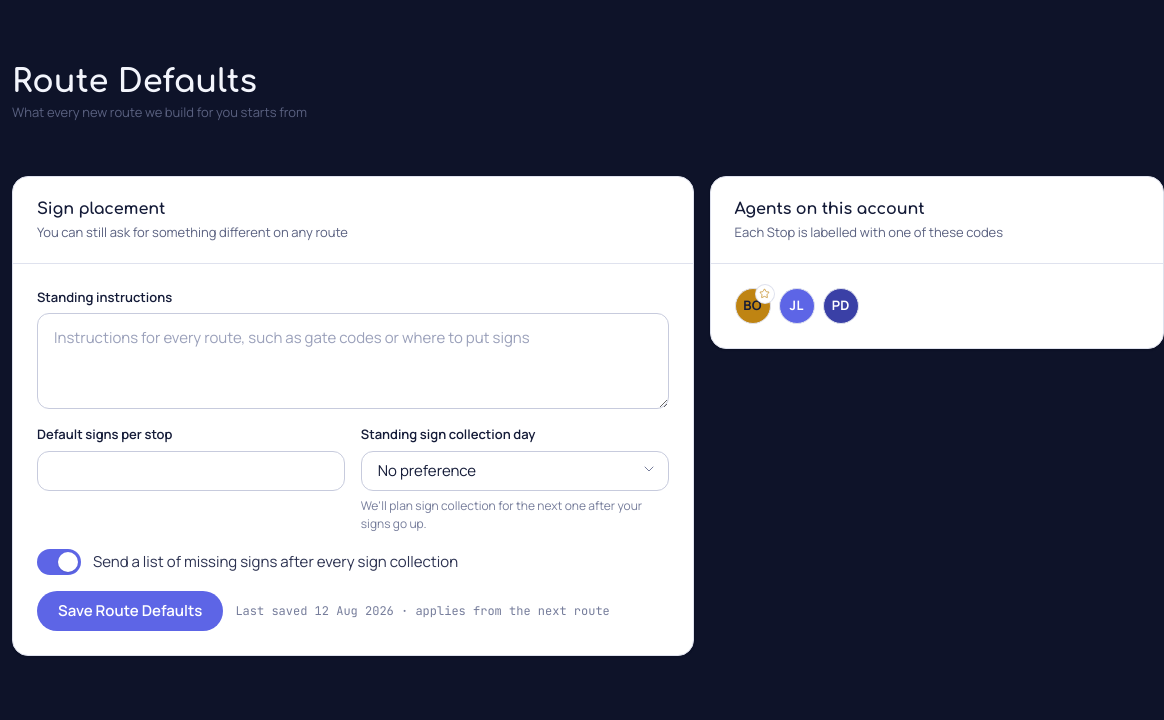
it: Customer Route Defaults page › validates non-negative default signs before save
The image size is (1164, 720).
Type "-1" into the number field labelled "Default signs per stop".
click(191, 471); type("-1")  # box [37, 451, 345, 491]
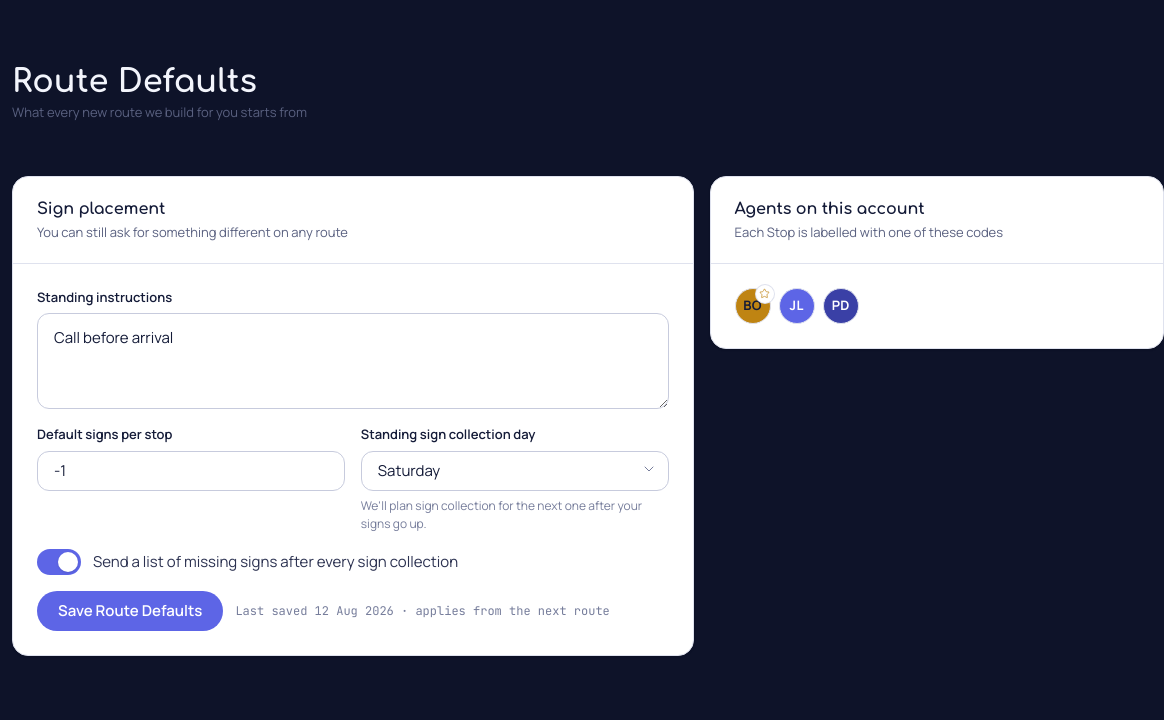
Click the button "Save Route Defaults".
click(130, 611)  # box [37, 591, 223, 631]
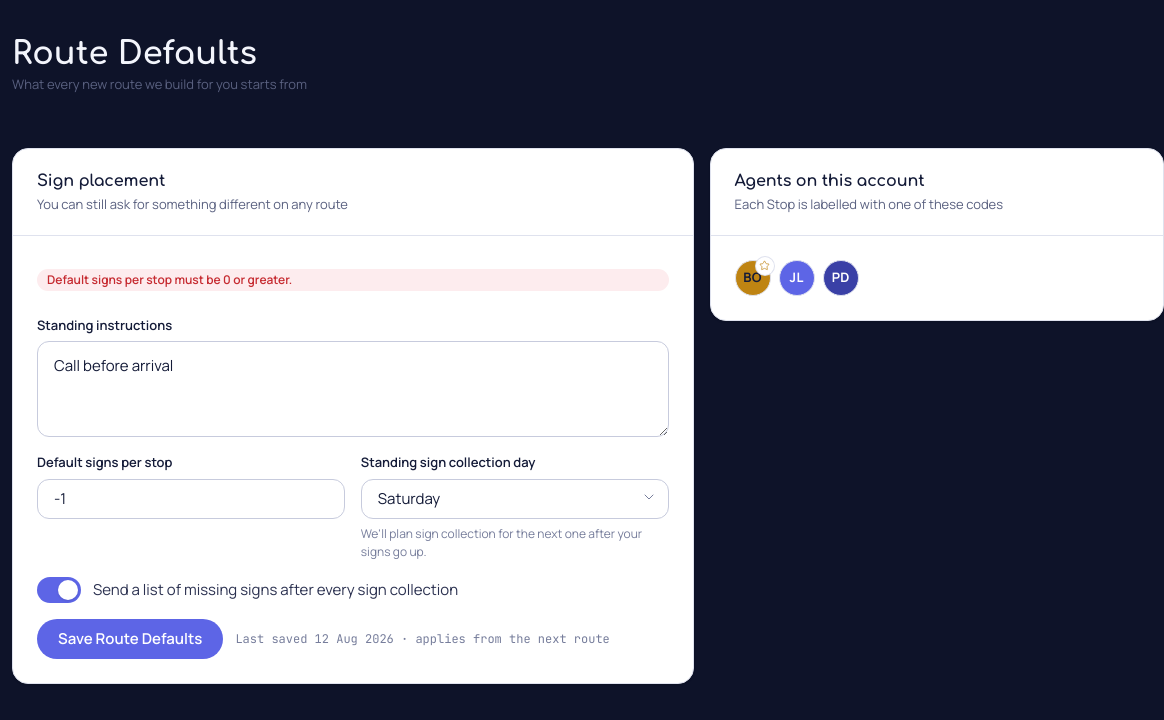
Check: the text "Default signs per stop must be 0 or greater." is shown, box [37, 269, 669, 291]
